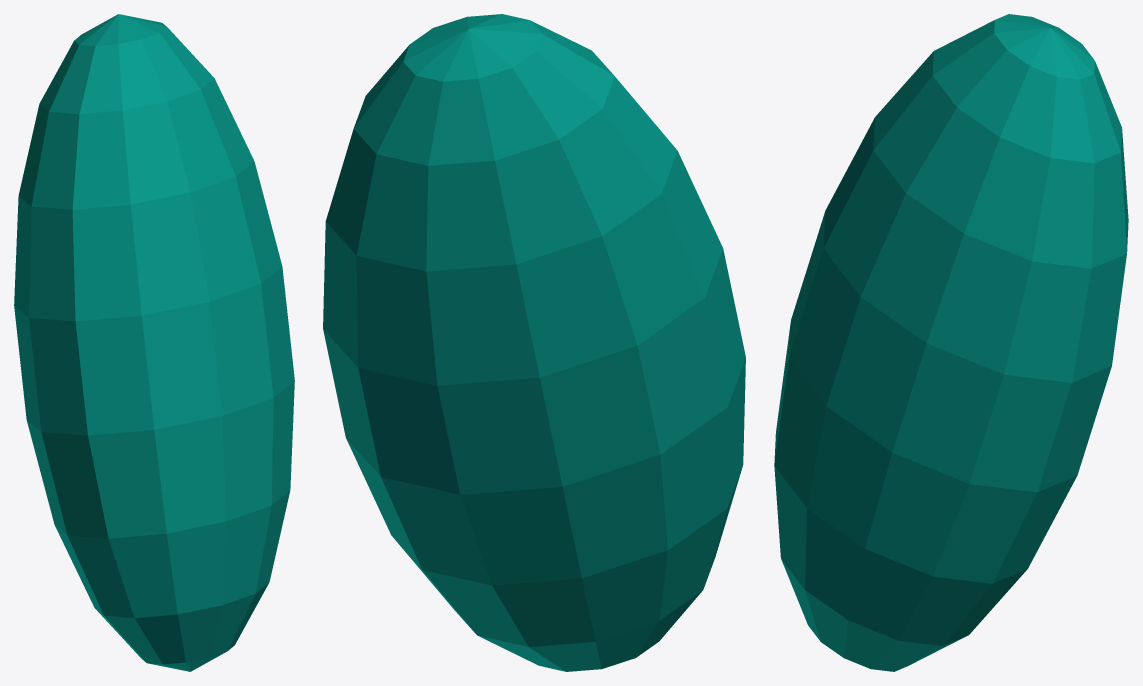
File: n5_group2053975513_lev5.glb
The picture shows the model from 3 angles, left to right: view 1: azimuth 30°, elevation 25°; view 2: azimuth 150°, elevation 25°; view 3: azimuth 270°, elevation 25°; orthographic projection. The views are drawn at different scales.
Parts seen in each view (by area): view 1: n5_group2053975513_lev5; view 2: n5_group2053975513_lev5; view 3: n5_group2053975513_lev5.
Boxes of the visible parts, left/top/right/bottom form: n5_group2053975513_lev5: left=14, top=14, right=294, bottom=671; n5_group2053975513_lev5: left=323, top=14, right=745, bottom=671; n5_group2053975513_lev5: left=774, top=14, right=1128, bottom=671.
Bounding box in the file's own units: 1.72 × 3.52 × 1.76.
